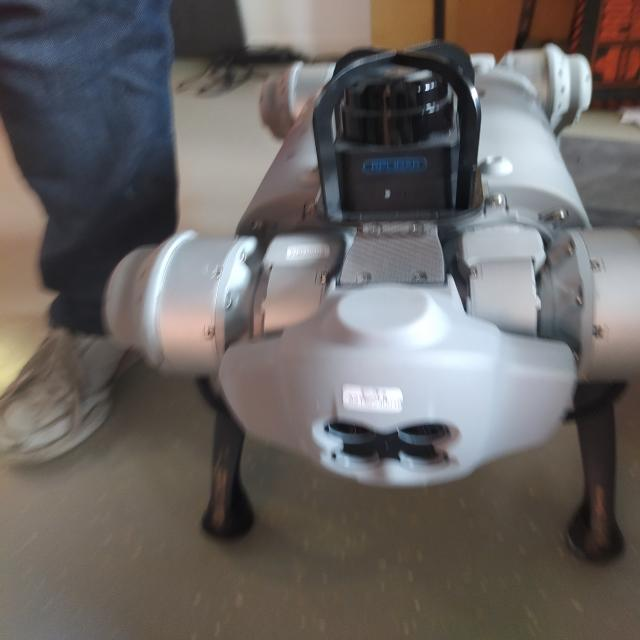unitree-go1-robot: (82, 41, 640, 580)
